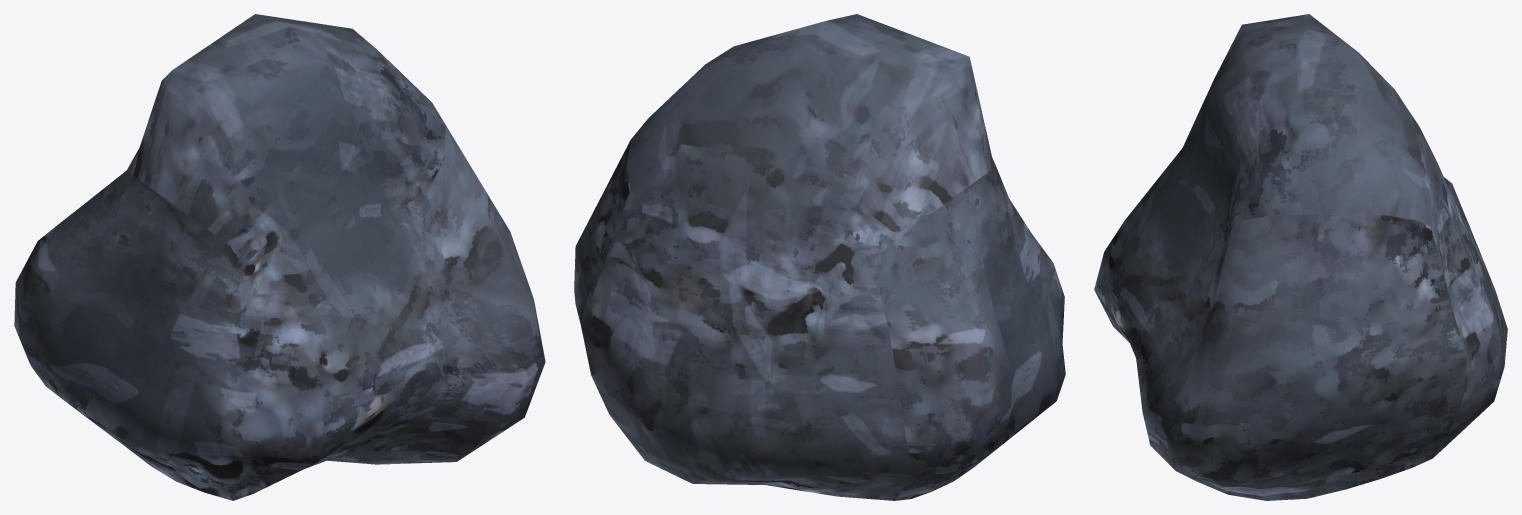
The model's file is rock5.fbx.
3 views of the same model, side by side, from view 1: azimuth 30°, elevation 25°; view 2: azimuth 150°, elevation 25°; view 3: azimuth 270°, elevation 25° (orthographic). The views are drawn at different scales.
Parts seen in each view (by area): view 1: pCube15; view 2: pCube15; view 3: pCube15.
Part boxes in pixels (x1,y1,x2,y2): pCube15: (14,14,545,500); pCube15: (574,14,1065,500); pCube15: (1094,14,1507,500).
Bounding box in the file's own units: 5.89 × 5.76 × 5.37.
